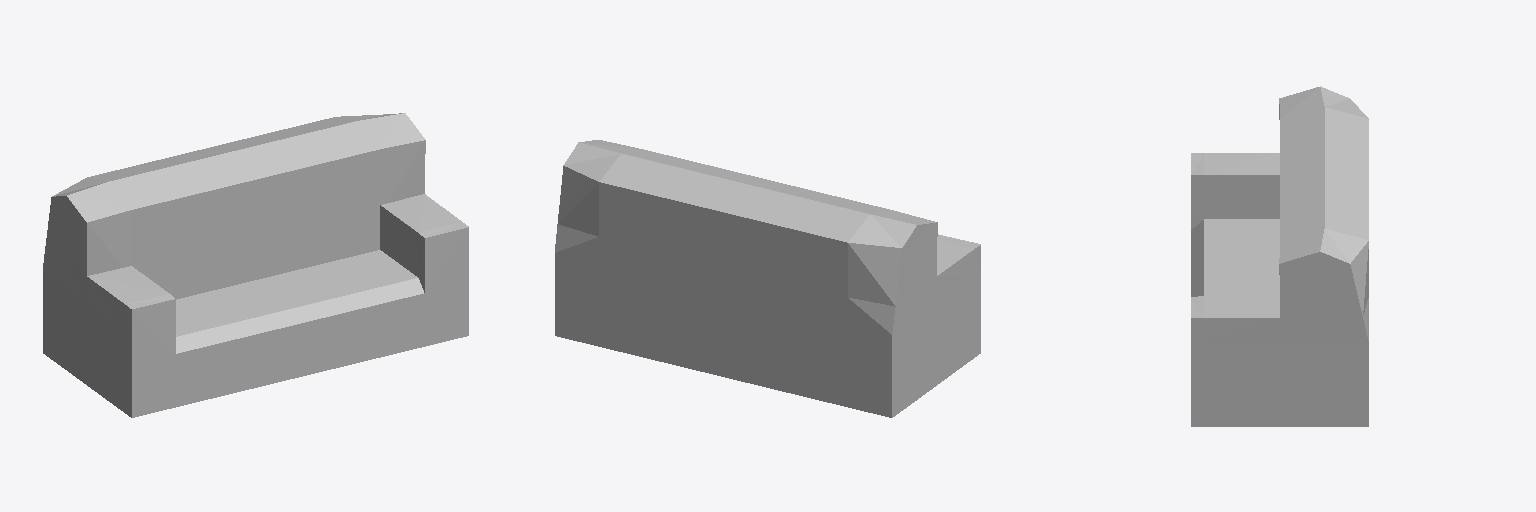
The model's file is couch.obj.
3 views of the same model, side by side, from view 1: azimuth 30°, elevation 25°; view 2: azimuth 150°, elevation 25°; view 3: azimuth 270°, elevation 25° (orthographic).
Visible parts, largest first — view 1: couch; view 2: couch; view 3: couch.
Part boxes in pixels (x1,y1,x2,y2): couch: (43,113,468,417); couch: (555,140,980,417); couch: (1191,86,1368,426).
Bounding box in the file's own units: 2.18 × 1.09 × 0.9933.